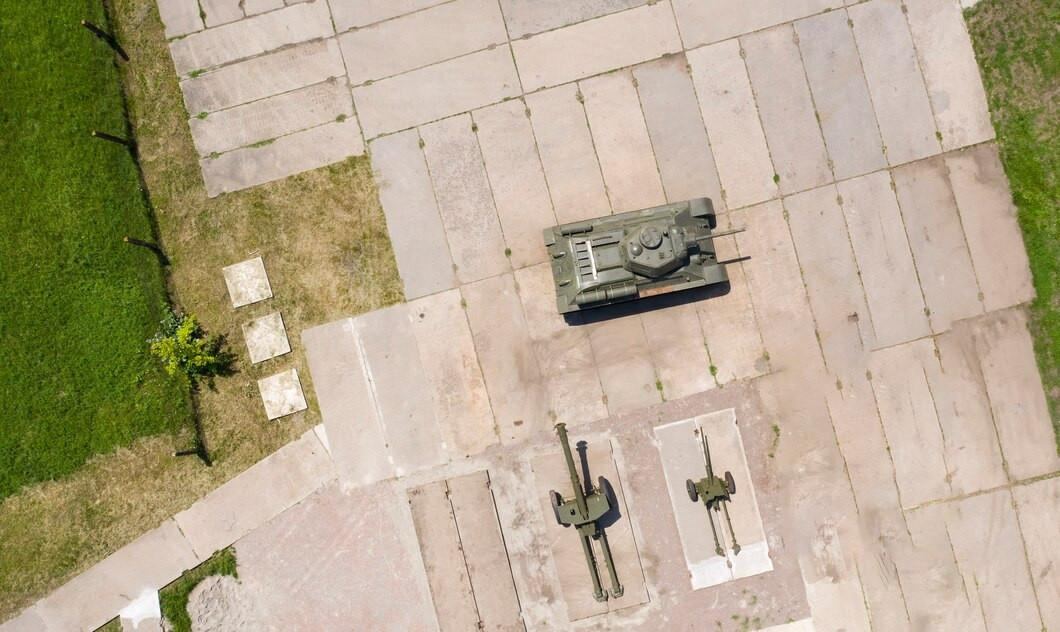tank: (543, 198, 746, 314)
